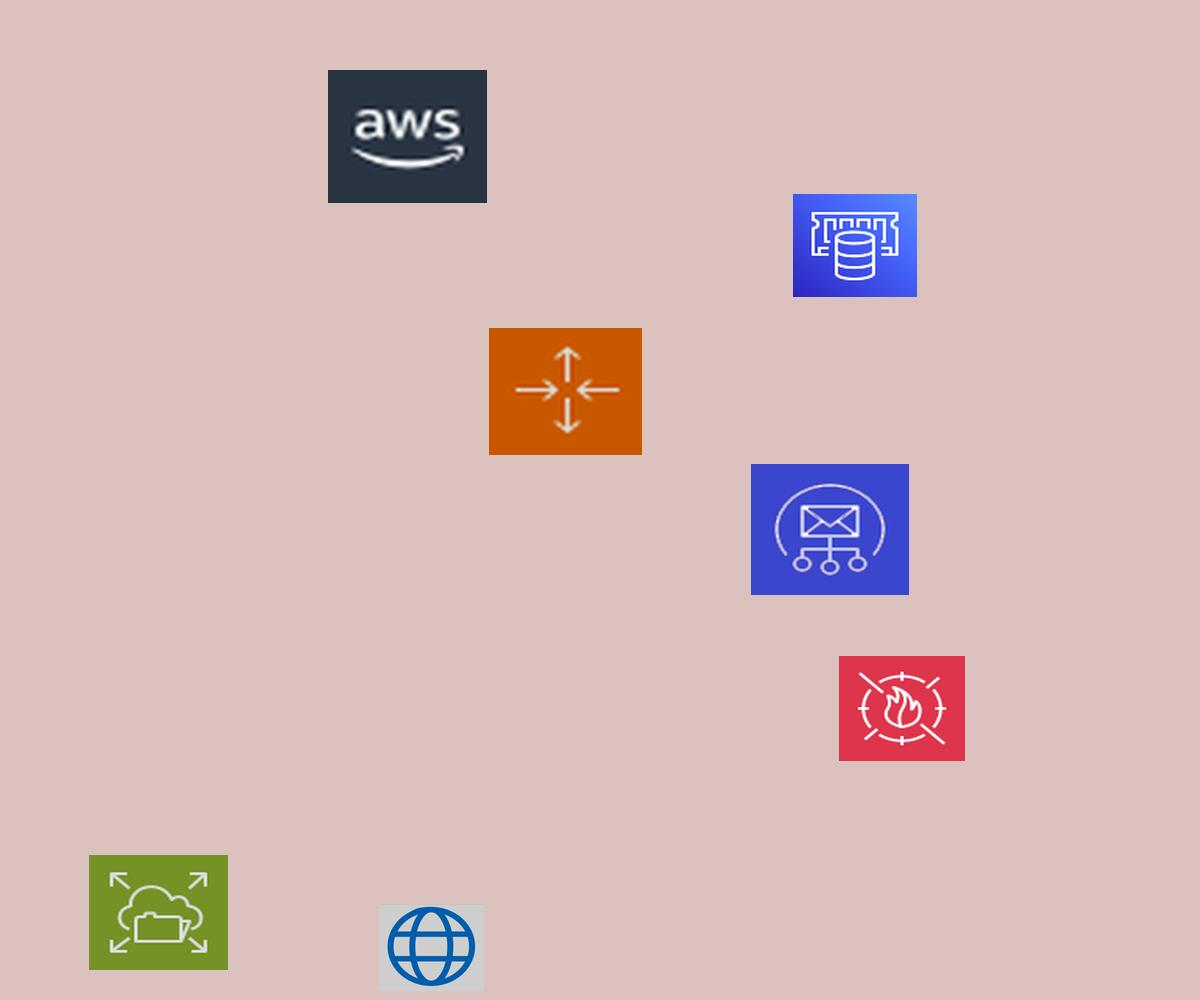AWS-Cloud-logo: (328, 70, 487, 203)
AWS-EFS: (89, 855, 228, 970)
AWS-ElastiCache: (793, 194, 917, 297)
AWS-Scaling-group: (489, 328, 642, 455)
AWS-Simple-Email-Service: (751, 464, 909, 595)
AWS-WAF: (839, 656, 965, 761)
Azure_http: (379, 904, 484, 991)
